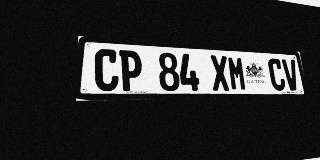4: (178, 53, 200, 91)
8: (158, 52, 180, 91)
C: (94, 49, 119, 91), (267, 58, 286, 91)
M: (227, 56, 247, 91)
P: (119, 50, 142, 91)
V: (281, 59, 300, 91)
X: (210, 55, 230, 91)
